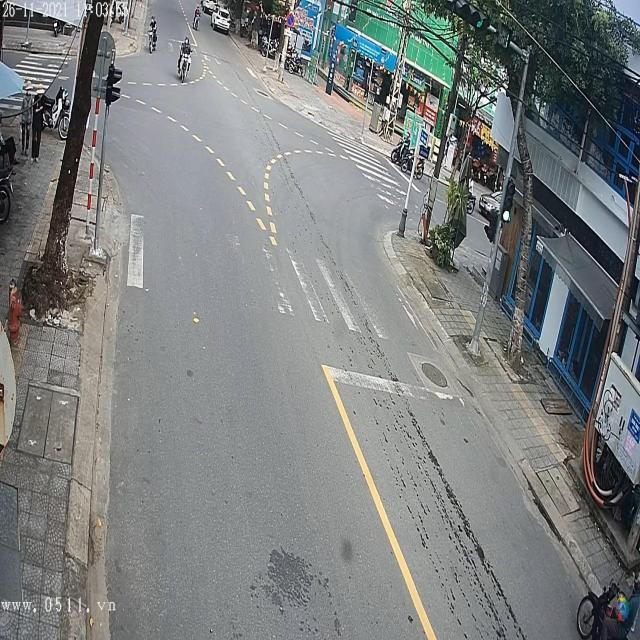motorcycle: (178, 46, 191, 83), (147, 28, 157, 56), (194, 8, 200, 28)
